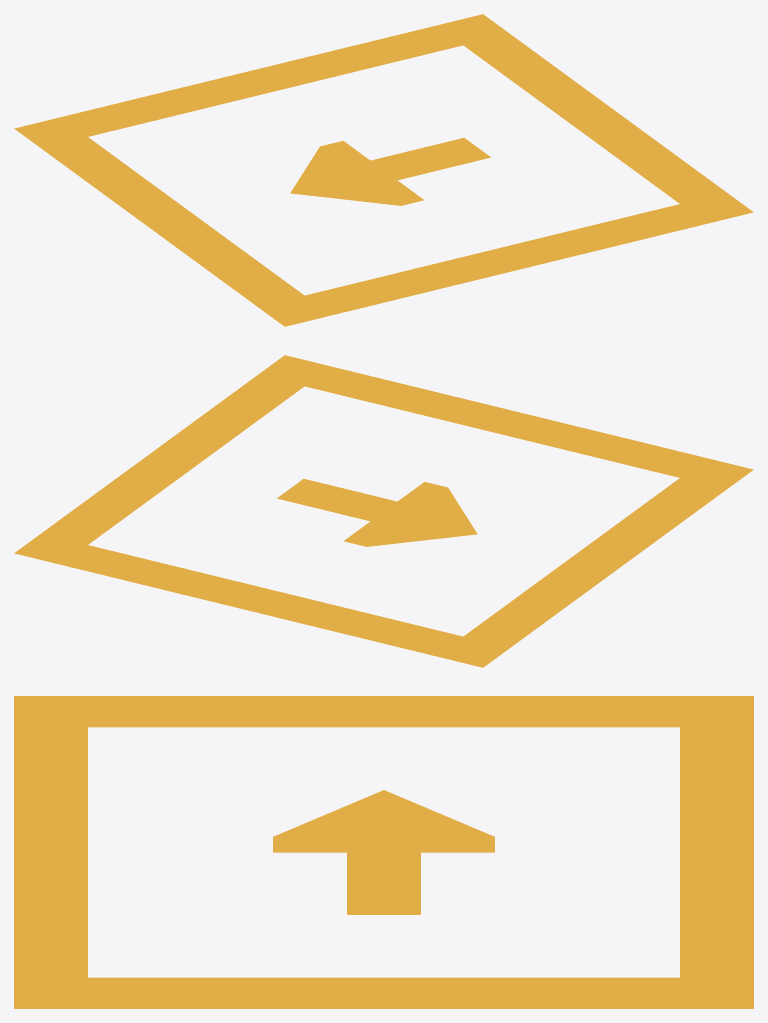
The model's file is indicator-special-arrow.glb.
The picture shows the model from 3 angles, top to bottom: view 1: azimuth 30°, elevation 25°; view 2: azimuth 150°, elevation 25°; view 3: azimuth 270°, elevation 25°; orthographic projection. The views are drawn at different scales.
Parts seen in each view (by area): view 1: indicator-special-arrow; view 2: indicator-special-arrow; view 3: indicator-special-arrow.
Part boxes in pixels (left/top/right/bottom): indicator-special-arrow: left=14, top=14, right=753, bottom=326; indicator-special-arrow: left=14, top=355, right=753, bottom=667; indicator-special-arrow: left=14, top=696, right=753, bottom=1008.
Bounding box in the file's own units: 1 × 0 × 1.
1 material, 1 textured.
